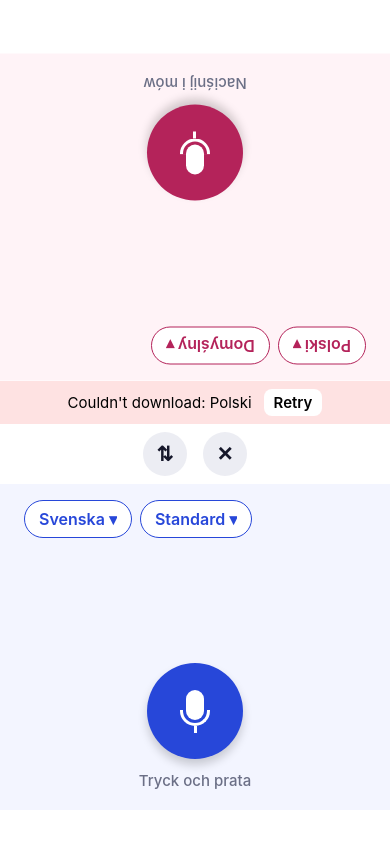
Test case: FaceToFaceScreen › lists a failed pack with a retry that downloads it again
Expected: the text "Couldn't download: Polski" is shown, x1=68 y1=392 x2=252 y2=412
Click the text "Retry". click: (293, 402)
box: x1=274 y1=392 x2=312 y2=412
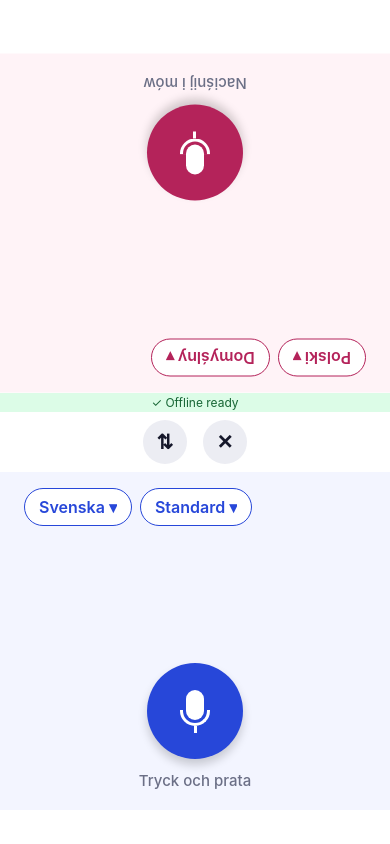
Result: the text "Retry" is gone
